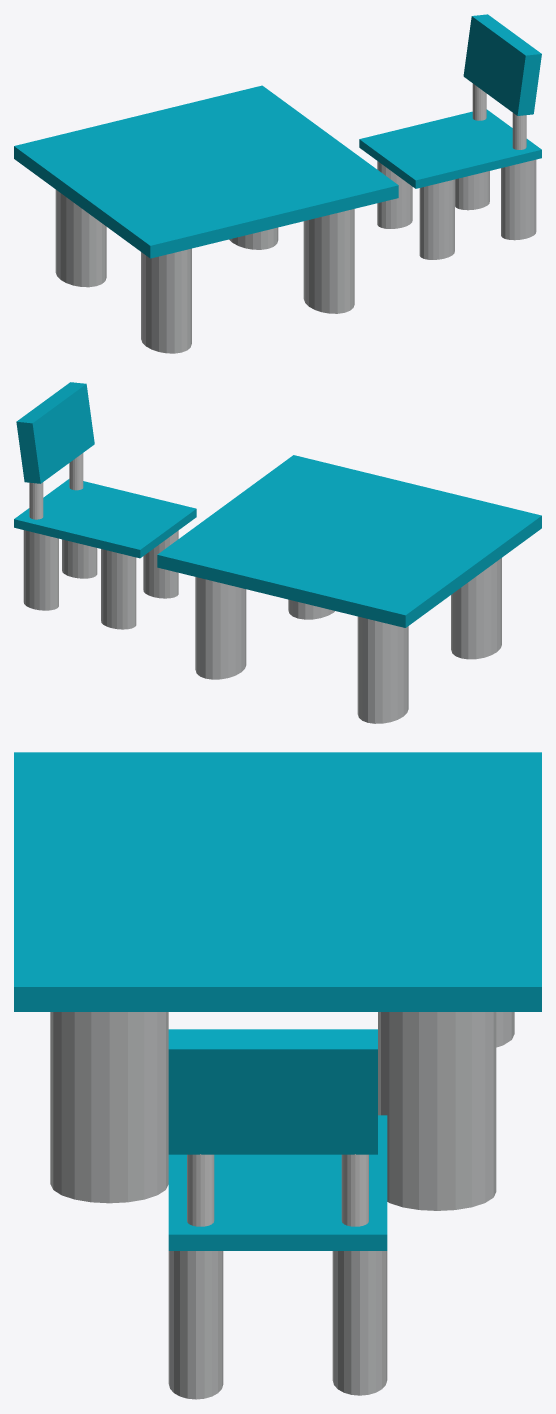
File: Incredible.gltf
3 views of the same model, one above another, from view 1: azimuth 30°, elevation 25°; view 2: azimuth 150°, elevation 25°; view 3: azimuth 270°, elevation 25° (orthographic). The views are drawn at different scales.
Parts seen in each view (by area): view 1: Mesh_Mesh_head_geo.001_lambert2SG.001; view 2: Mesh_Mesh_head_geo.001_lambert2SG.001; view 3: Mesh_Mesh_head_geo.001_lambert2SG.001.
Boxes of the visible parts, x1,y1,x2,y2 form: Mesh_Mesh_head_geo.001_lambert2SG.001: [14, 14, 541, 353]; Mesh_Mesh_head_geo.001_lambert2SG.001: [14, 382, 541, 723]; Mesh_Mesh_head_geo.001_lambert2SG.001: [14, 752, 541, 1399].
Bounding box in the file's own units: 106 × 43 × 58.
